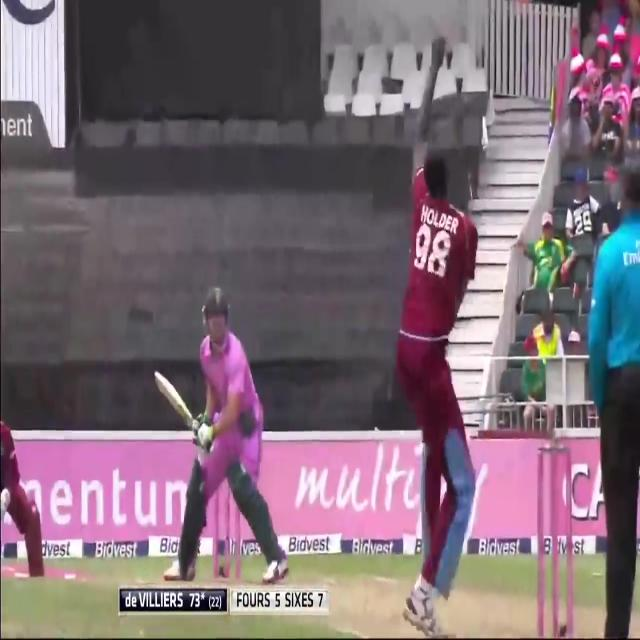Ball: (170, 282, 289, 587)
Fielder: (395, 140, 483, 640), (0, 405, 62, 591)
Umpire: (581, 160, 640, 639)
